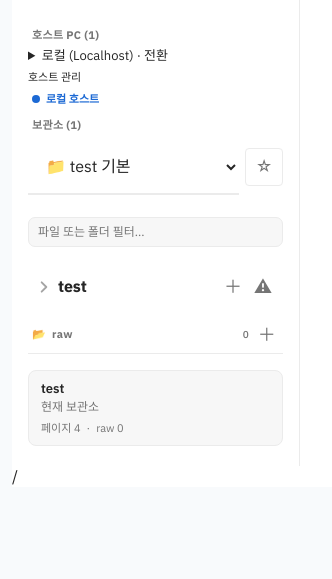
Test case: 사이드바 초안 표시 › 검토 대기 줄이 개수를 보이고 검토 화면으로 간다
Click the 1st text "test" at (72, 286), box [58,276,87,296]
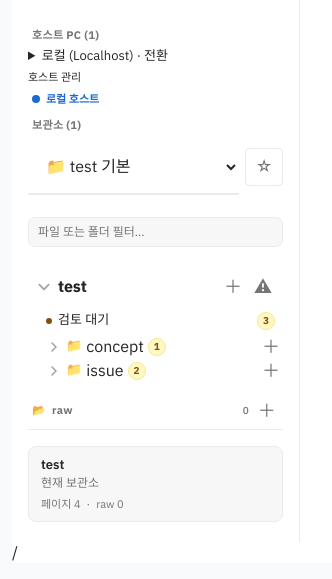
Click the button with aria-label "검토 대기 3건" at (156, 321), box [28,307,283,335]
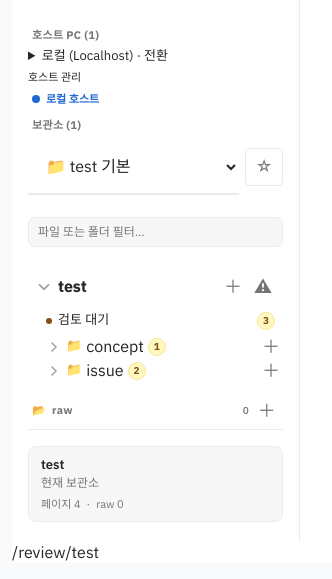
Check: the text with test id "where" reads "/review/test", box [12,542,99,562]
